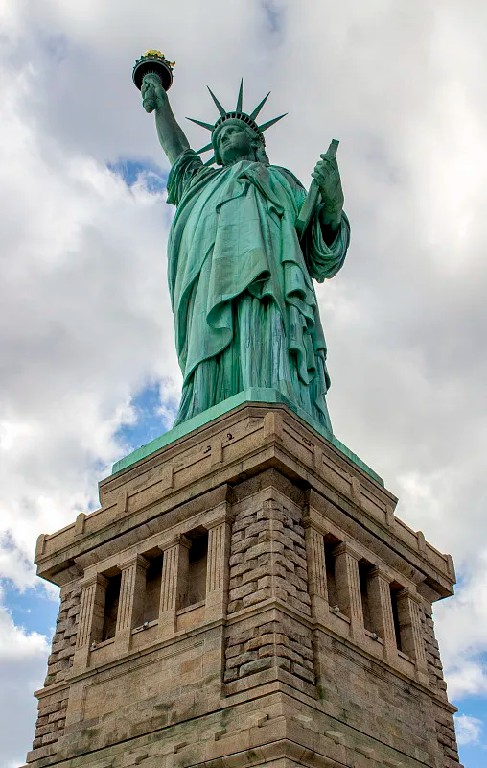SL: (16, 49, 465, 768)
